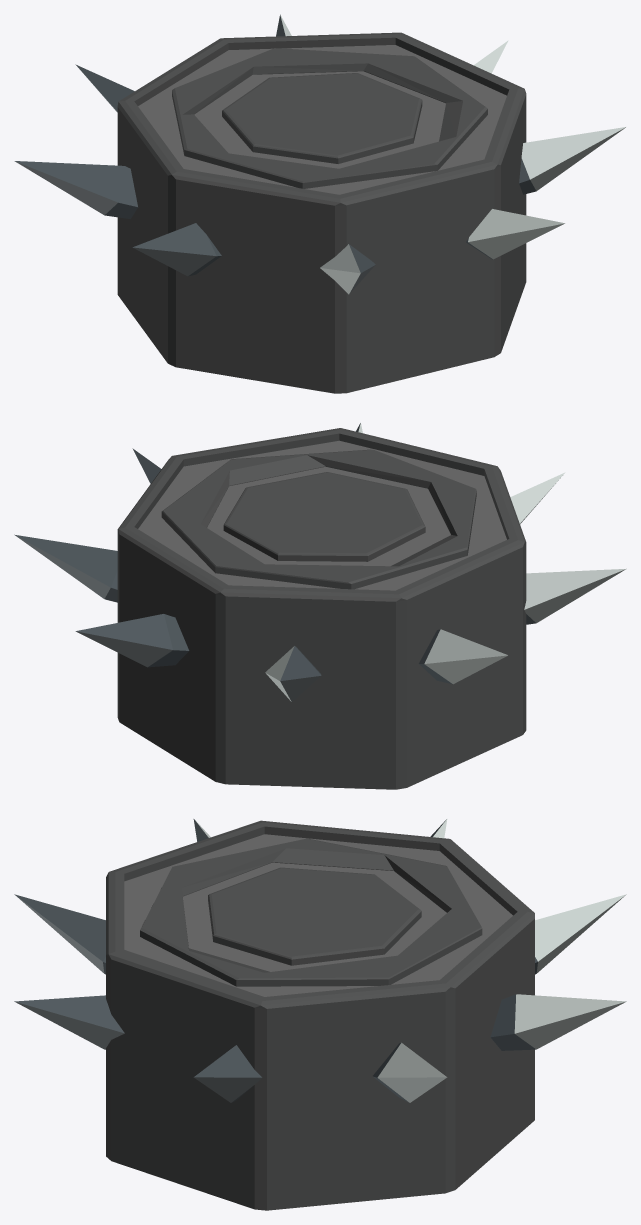
File: stone_spike.fbx
The picture shows the model from 3 angles, top to bottom: view 1: azimuth 30°, elevation 25°; view 2: azimuth 150°, elevation 25°; view 3: azimuth 270°, elevation 25°; orthographic projection. The views are drawn at different scales.
Parts seen in each view (by area): view 1: stone_spike_body; view 2: stone_spike_body; view 3: stone_spike_body.
Part boxes in pixels (box(x1,y1,x2,y2)): stone_spike_body: box(14, 14, 625, 393); stone_spike_body: box(14, 422, 626, 789); stone_spike_body: box(14, 819, 626, 1210).
Size of the model in its own units: 5.4 by 2 by 5.4.
1 material, 1 textured.
